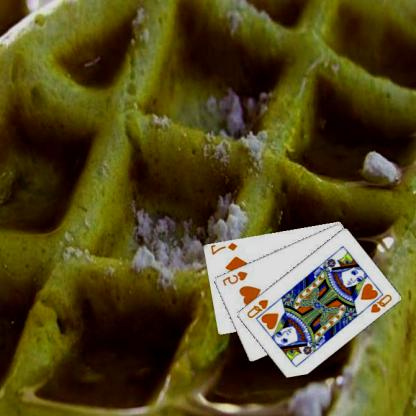5H: (221, 268, 250, 288)
7D: (210, 240, 240, 256)
QH: (362, 291, 395, 314), (246, 297, 271, 320)
